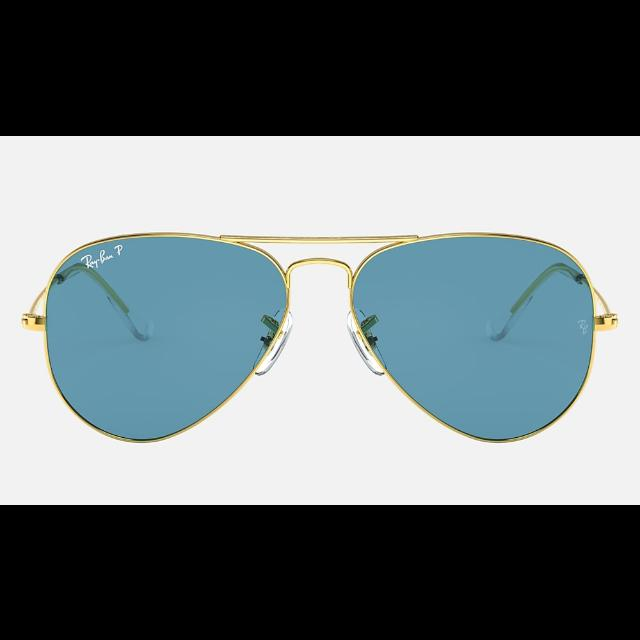Sunglasses: (22, 231, 618, 443)
